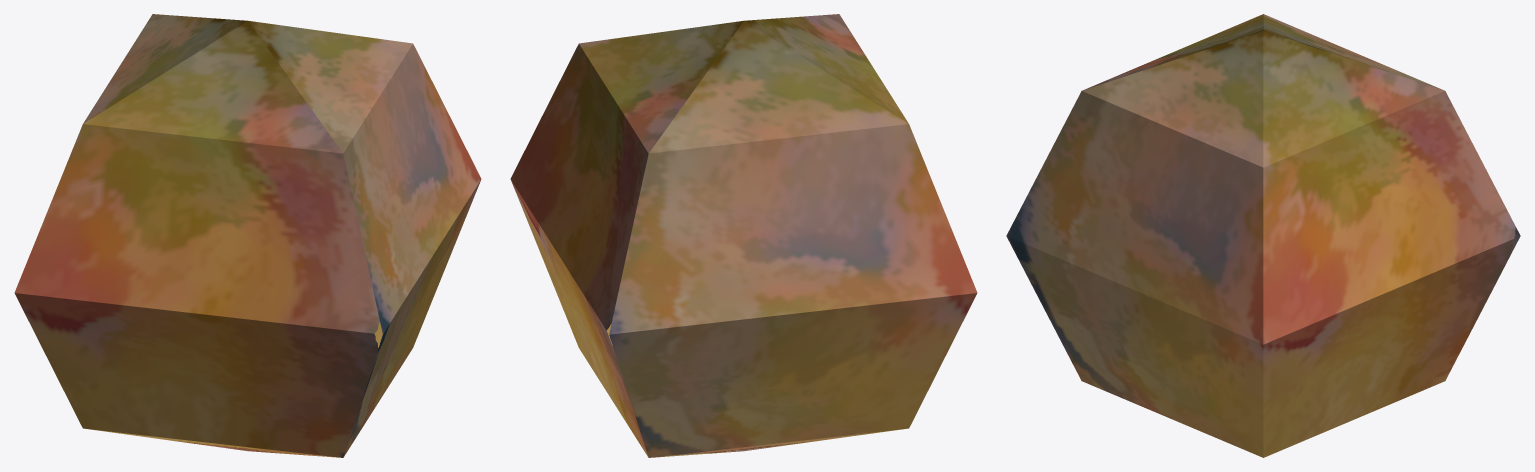
File: bullet_4.fbx
The picture shows the model from 3 angles, left to right: view 1: azimuth 30°, elevation 25°; view 2: azimuth 150°, elevation 25°; view 3: azimuth 270°, elevation 25°; orthographic projection. The views are drawn at different scales.
Visible parts, largest first — view 1: bullet_4; view 2: bullet_4; view 3: bullet_4.
Part boxes in pixels (x1,y1,x2,y2): bullet_4: [14, 14, 481, 457]; bullet_4: [510, 14, 977, 457]; bullet_4: [1006, 14, 1520, 457].
Bounding box in the file's own units: 200 × 176 × 200.
Materials: 1 (1 with a texture image).
